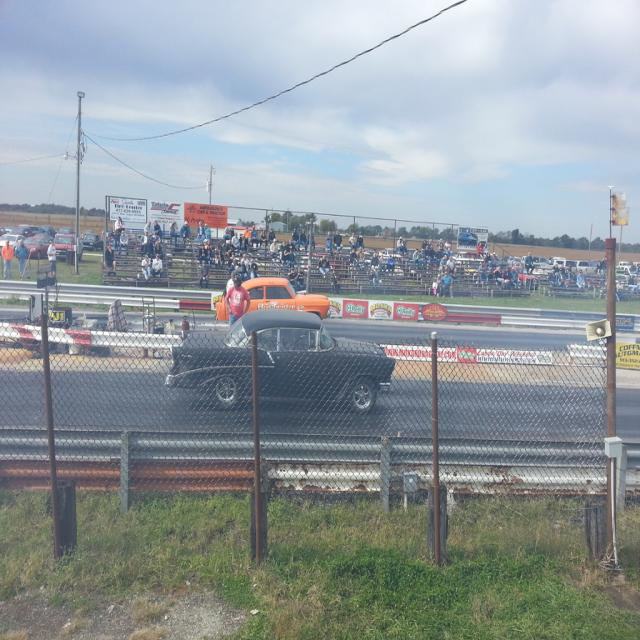car: (161, 302, 396, 411), (214, 270, 308, 332)
